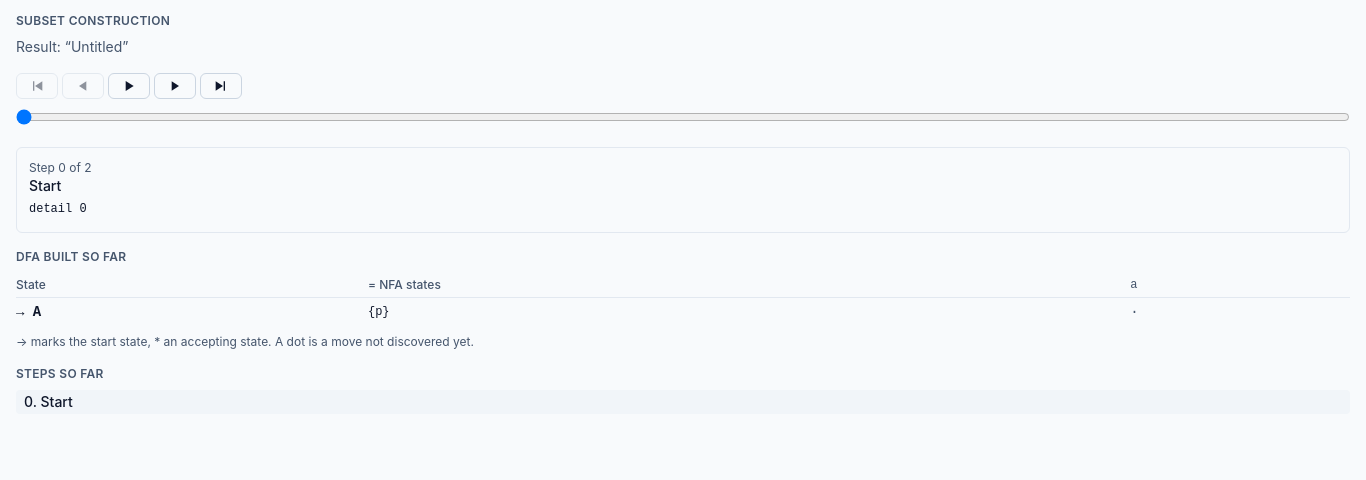
Test case: subset table › starts with the start row and fills in as moves are discovered
The width and height of the screenshot is (1366, 480).
Expected: the number of rows is 2, [16,272,1350,297]; [16,297,1350,326]
Expected: the column heading "→ A" is shown, [16,297,368,326]
Click the button named "Next step".
click(175, 86)  # box [154,73,196,99]
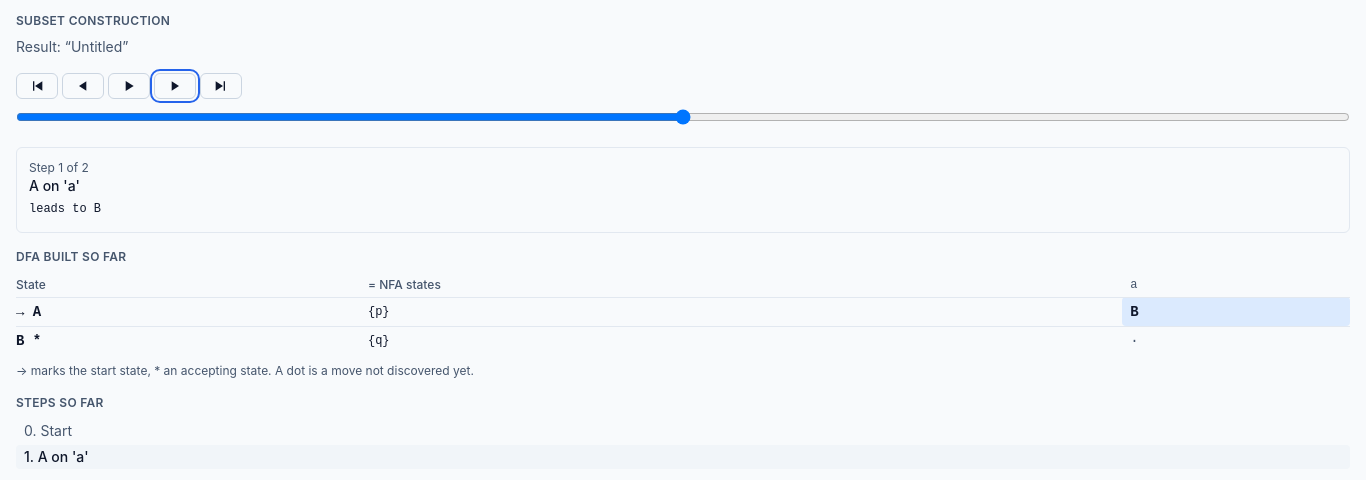
Expected: the number of rows is 3, [16,272,1350,297]; [16,297,1350,326]; [16,326,1350,354]
Expected: the column heading "B *" is shown, [16,326,368,354]
